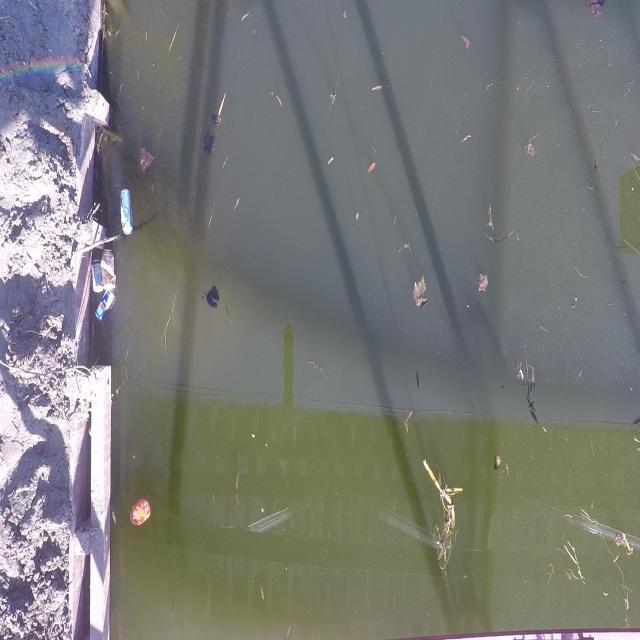Non plastique: (118, 181, 134, 242), (128, 498, 154, 532), (94, 291, 115, 325), (103, 246, 117, 291), (90, 260, 103, 296)
